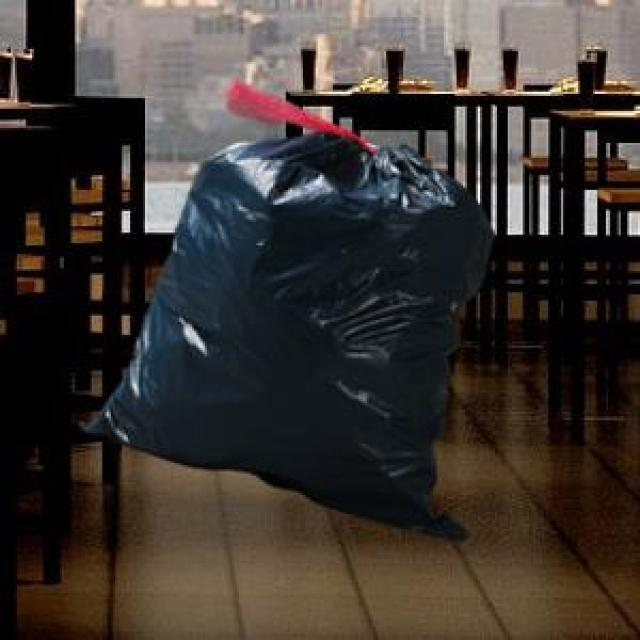Vinyl: (105, 129, 491, 538)
